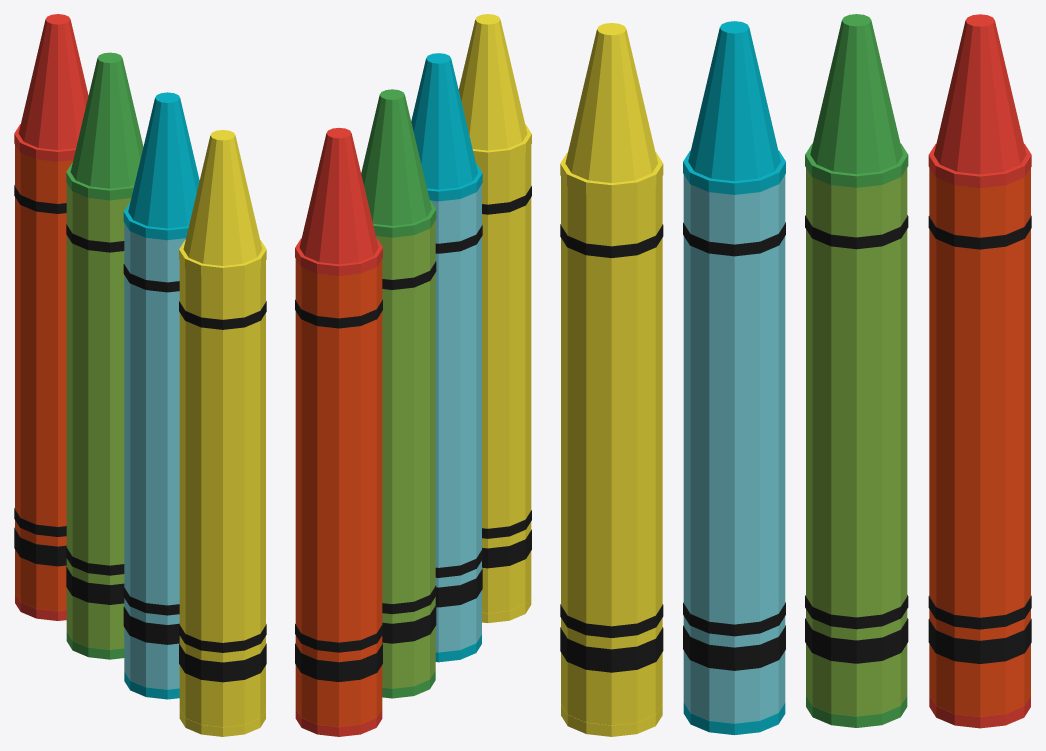
Rendered from crayons.fbx.
3 views of the same model, side by side, from view 1: azimuth 30°, elevation 25°; view 2: azimuth 150°, elevation 25°; view 3: azimuth 270°, elevation 25° (orthographic). The views are drawn at different scales.
Parts seen in each view (by area): view 1: model, model.002, model.003, model.001; view 2: model.001, model.002, model, model.003; view 3: model.003, model.001, model, model.002.
Part boxes in pixels (x1,y1,x2,y2): model: (179,130,266,736); model.002: (66,52,143,659); model.003: (123,92,199,699); model.001: (14,14,88,620); model.001: (295,128,382,736); model.002: (361,89,436,698); model: (458,14,531,622); model.003: (411,53,482,662); model.003: (683,21,785,735); model.001: (928,14,1031,728); model: (560,23,663,736); model.002: (805,14,908,727).
Size of the model in its own units: 27.17 by 180 by 111.
